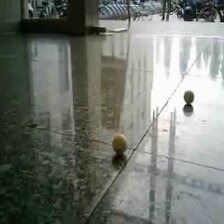w: (111, 135, 130, 155), (182, 89, 196, 105)
